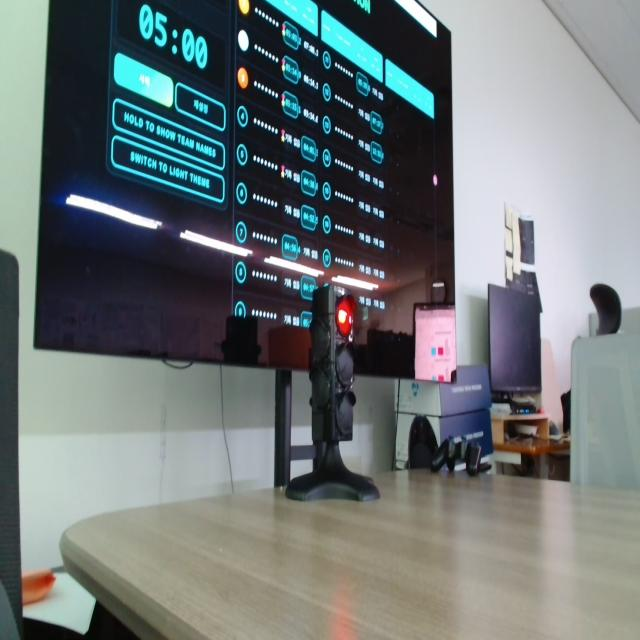red_light: (336, 296, 355, 337)
